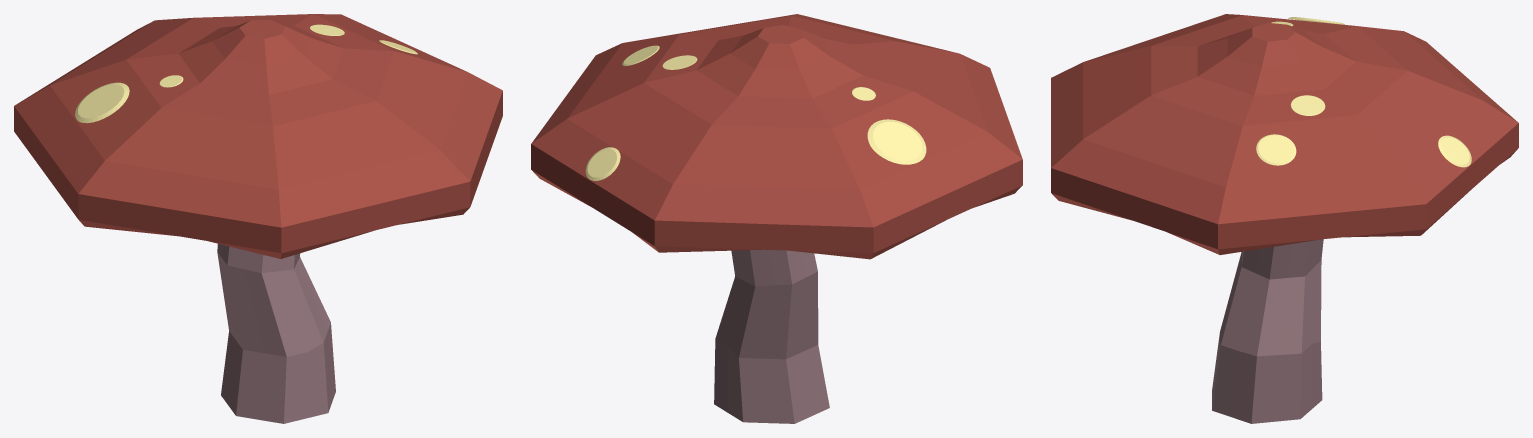
Rendered from mushroom-2.fbx.
3 renders of one model, left to right at view 1: azimuth 30°, elevation 25°; view 2: azimuth 150°, elevation 25°; view 3: azimuth 270°, elevation 25°, orthographic. The views are drawn at different scales.
Parts seen in each view (by area): view 1: Cylinder; view 2: Cylinder; view 3: Cylinder.
Part boxes in pixels (x1,y1,x2,y2): Cylinder: [14, 14, 502, 423]; Cylinder: [531, 14, 1022, 423]; Cylinder: [1051, 14, 1518, 423].
Size of the model in its own units: 359 by 299 by 350.
